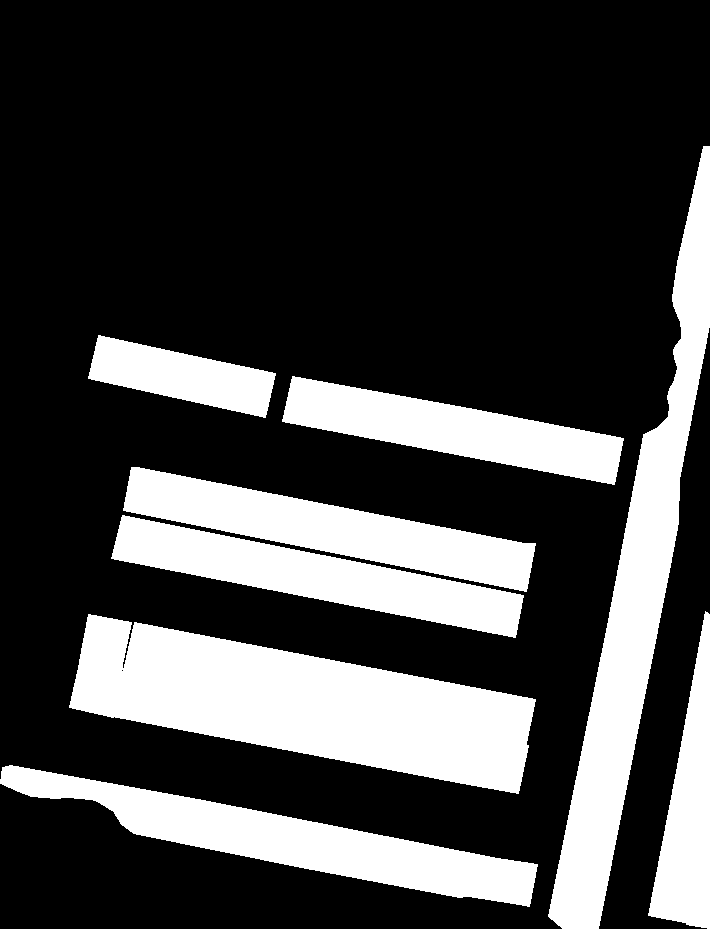parkingspot: (548, 146, 710, 928), (0, 765, 537, 906), (123, 622, 535, 748), (123, 467, 535, 591), (111, 515, 523, 637), (112, 668, 468, 782), (282, 376, 623, 484), (648, 611, 710, 923), (88, 335, 275, 417), (457, 734, 528, 793), (69, 658, 122, 717), (686, 801, 710, 928), (79, 614, 131, 669)
